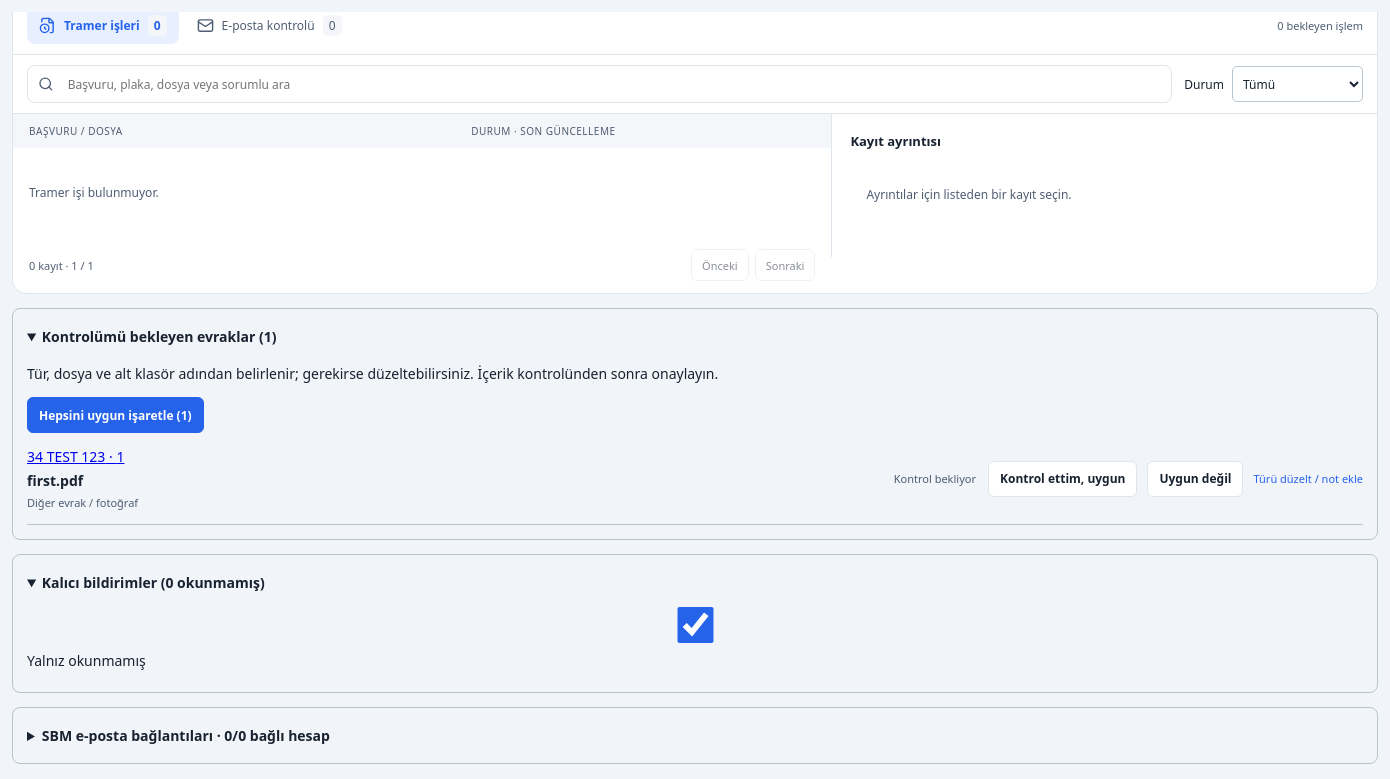
Scenario: tracking screens › reports a refresh failure separately after reviews have been saved
The width and height of the screenshot is (1390, 779).
(page scrolled)
Step 1. Click the button "Hepsini uygun işaretle (1)" → (115, 415), box [27, 397, 204, 433]
(page scrolled)
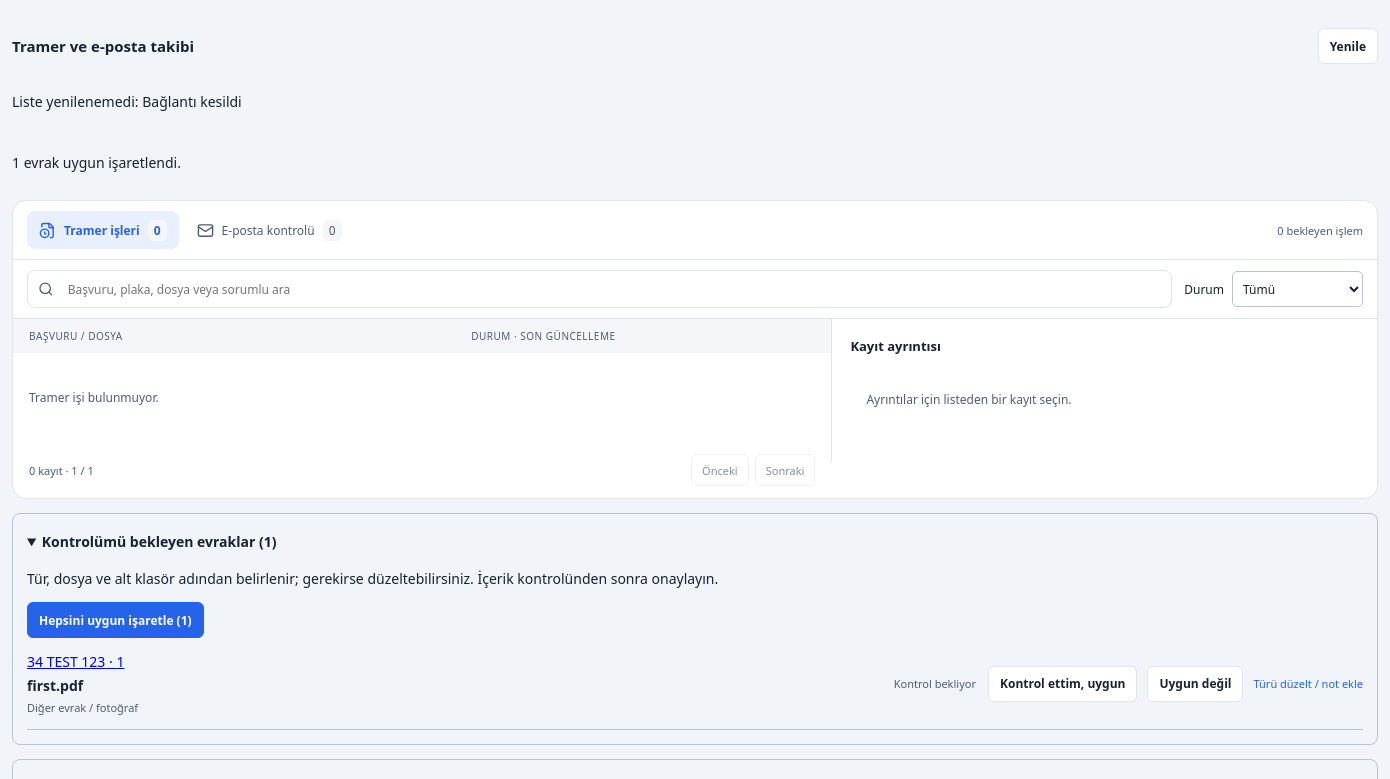
Now the message "Liste yenilenemedi: Bağlantı kesildi" is shown, box [12, 92, 242, 111]
Now the text "1 evrak uygun işaretlendi." is shown, box [12, 153, 181, 172]
